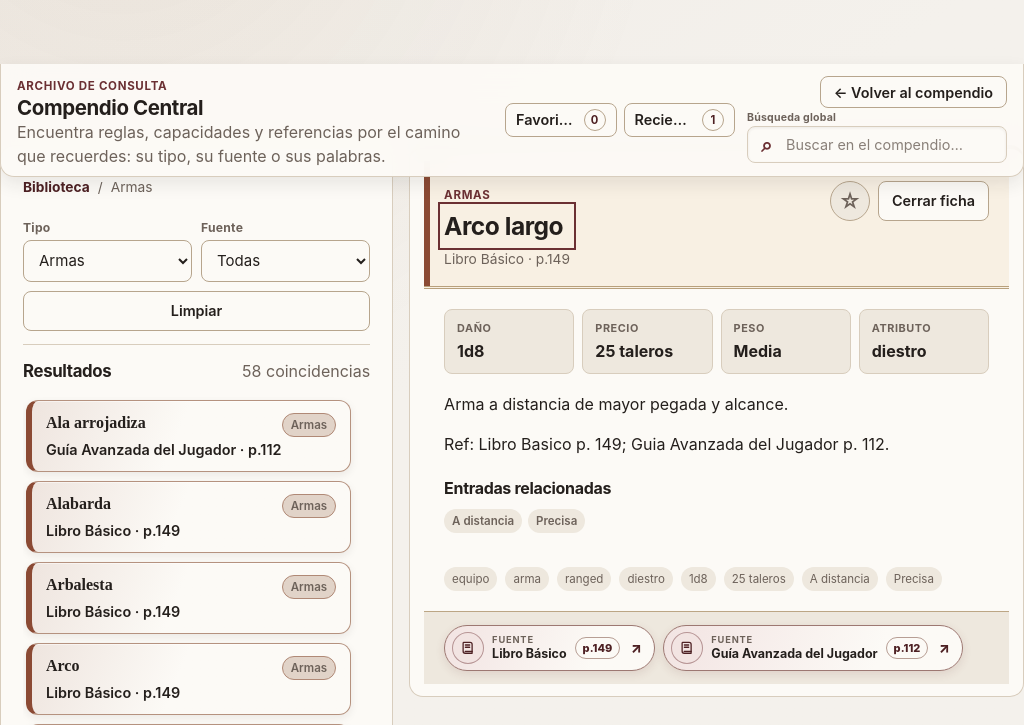
Test: CompendiumView library › opens related weapon qualities as individual compendium entries
Click the button "Precisa" at (557, 521), box [528,509,585,533]
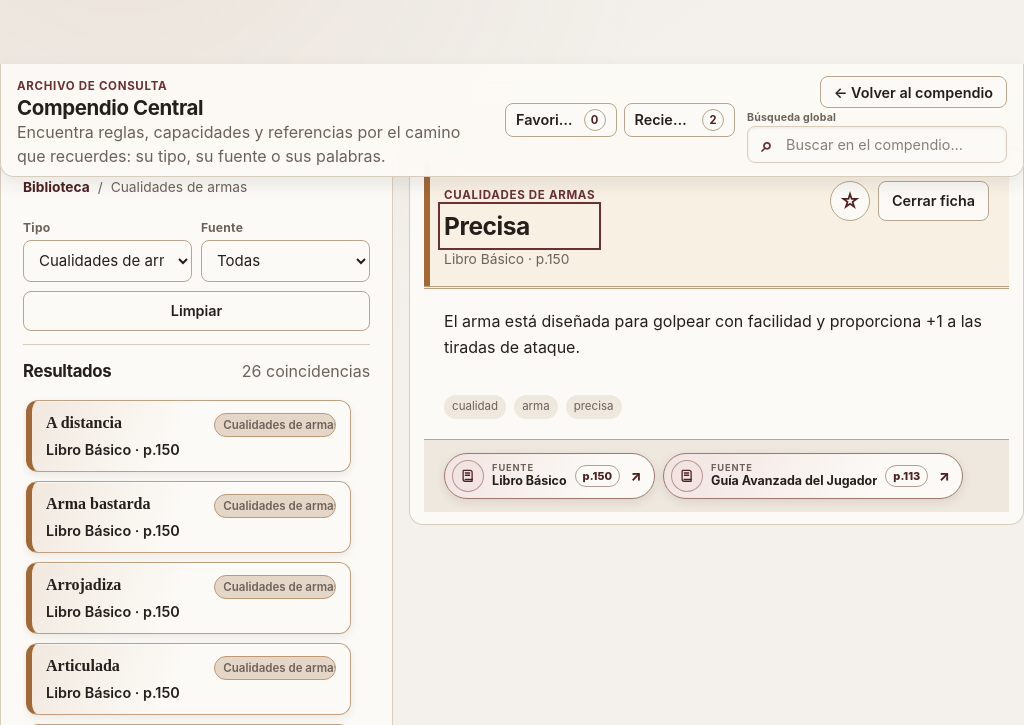
Expected: the heading "Precisa" is shown, [444,210,530,240]
Expected: the dropdown labelled "Tipo" shows "Cualidades de armas", [23,240,192,282]
